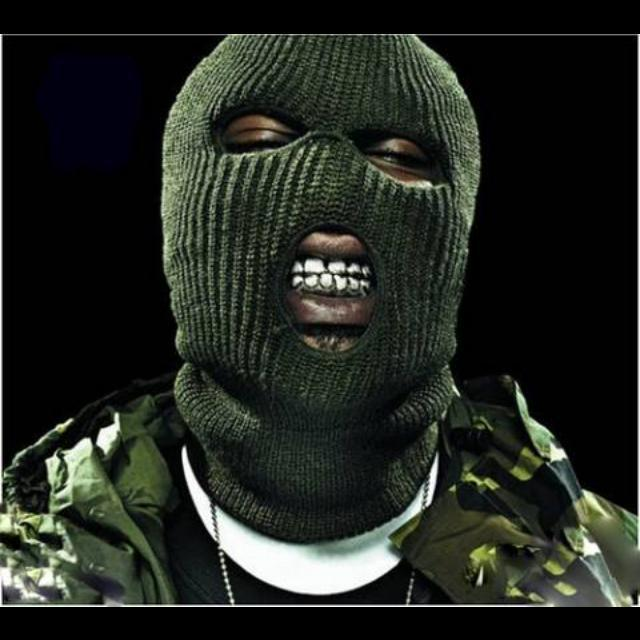criminal: (0, 32, 640, 607)
